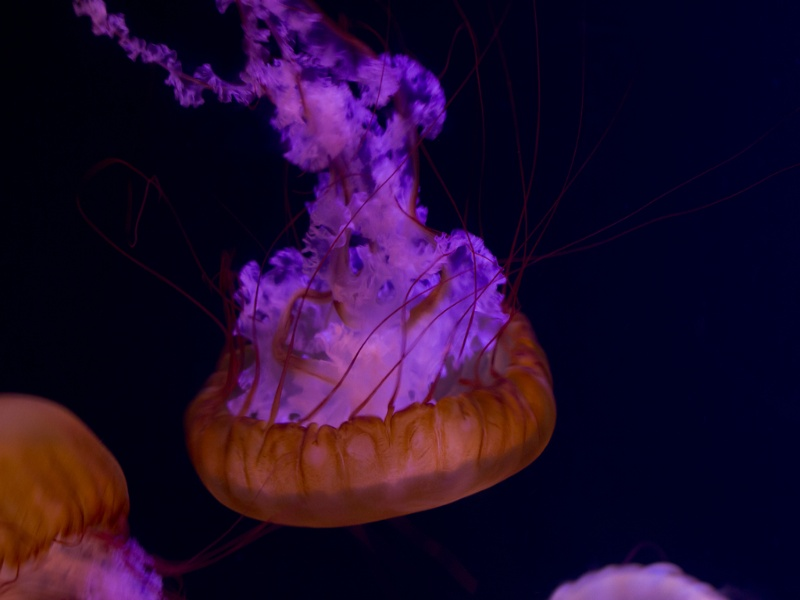Jellyfish: (155, 31, 599, 536), (0, 394, 195, 599), (550, 563, 717, 599)
